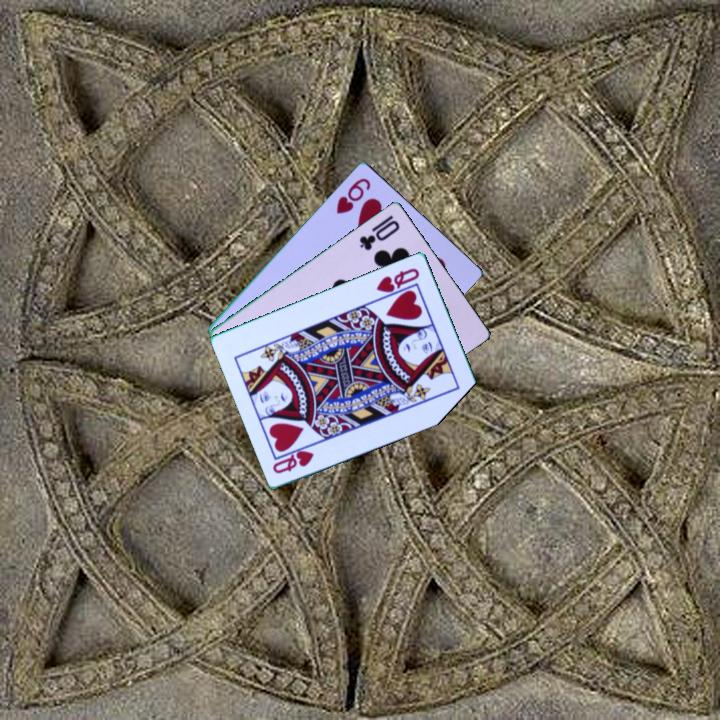10c: (356, 211, 403, 253)
6h: (333, 174, 374, 217)
Qh: (373, 264, 423, 295), (269, 446, 317, 476)
